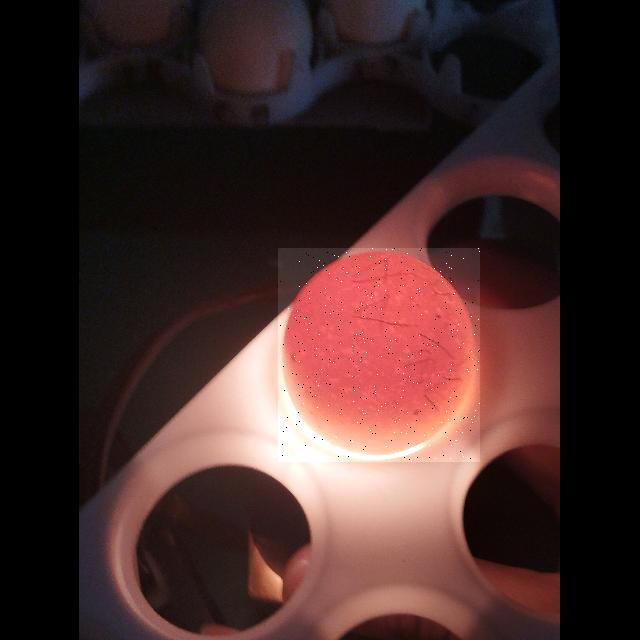Infertile: (278, 248, 480, 462)
